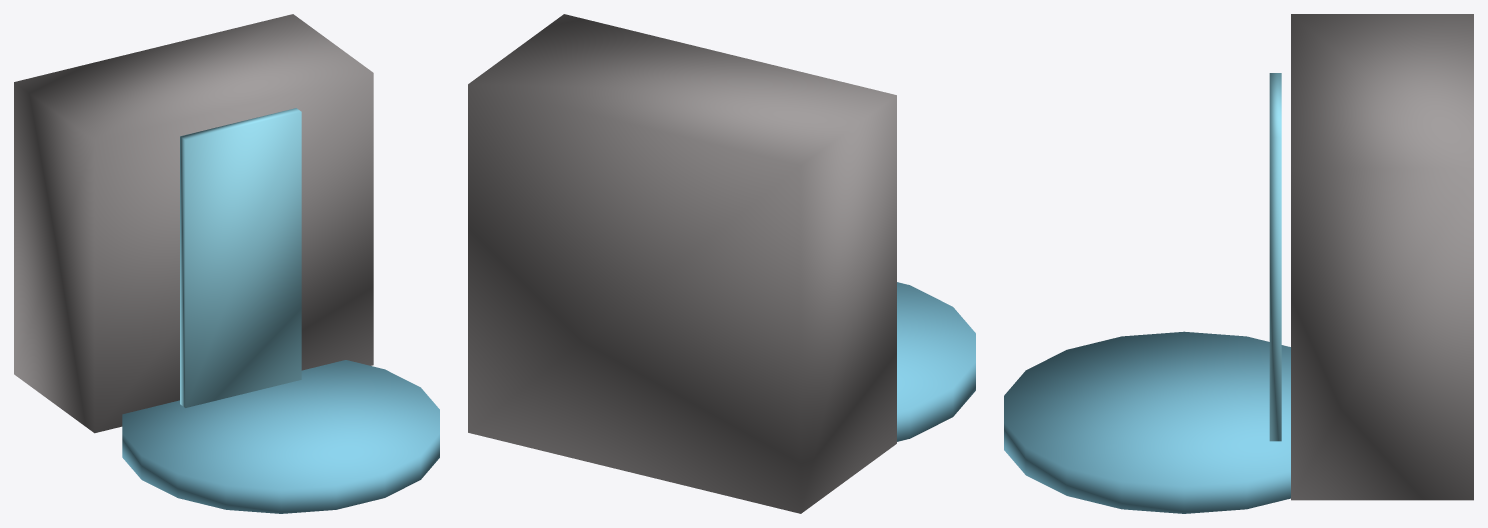
File: waterfall.glb
The picture shows the model from 3 angles, left to right: view 1: azimuth 30°, elevation 25°; view 2: azimuth 150°, elevation 25°; view 3: azimuth 270°, elevation 25°; orthographic projection. The views are drawn at different scales.
Visible parts, largest first — view 1: cliff, pool, water; view 2: cliff, pool; view 3: cliff, pool, water.
Boxes of the visible parts, left/top/right/bottom form: cliff: left=14, top=14, right=373, bottom=433; pool: left=122, top=360, right=439, bottom=513; water: left=180, top=108, right=301, bottom=407; cliff: left=468, top=14, right=896, bottom=513; pool: left=897, top=282, right=975, bottom=441; cliff: left=1291, top=14, right=1473, bottom=500; pool: left=1004, top=331, right=1290, bottom=513; water: left=1269, top=73, right=1281, bottom=441.
Size of the model in its own units: 1.2 by 1.25 by 1.54.
